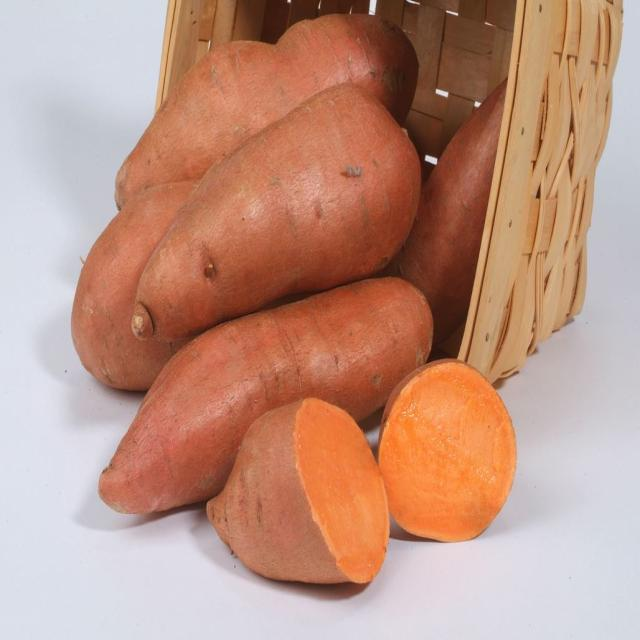sweet potato: (99, 277, 432, 513), (132, 84, 421, 339), (115, 15, 419, 208), (208, 398, 389, 582), (390, 82, 506, 343), (71, 180, 198, 390), (379, 359, 516, 540)
